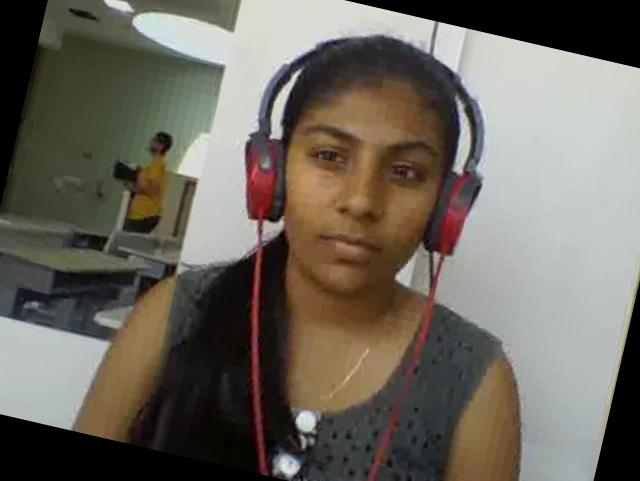bingung: (255, 61, 464, 310)
